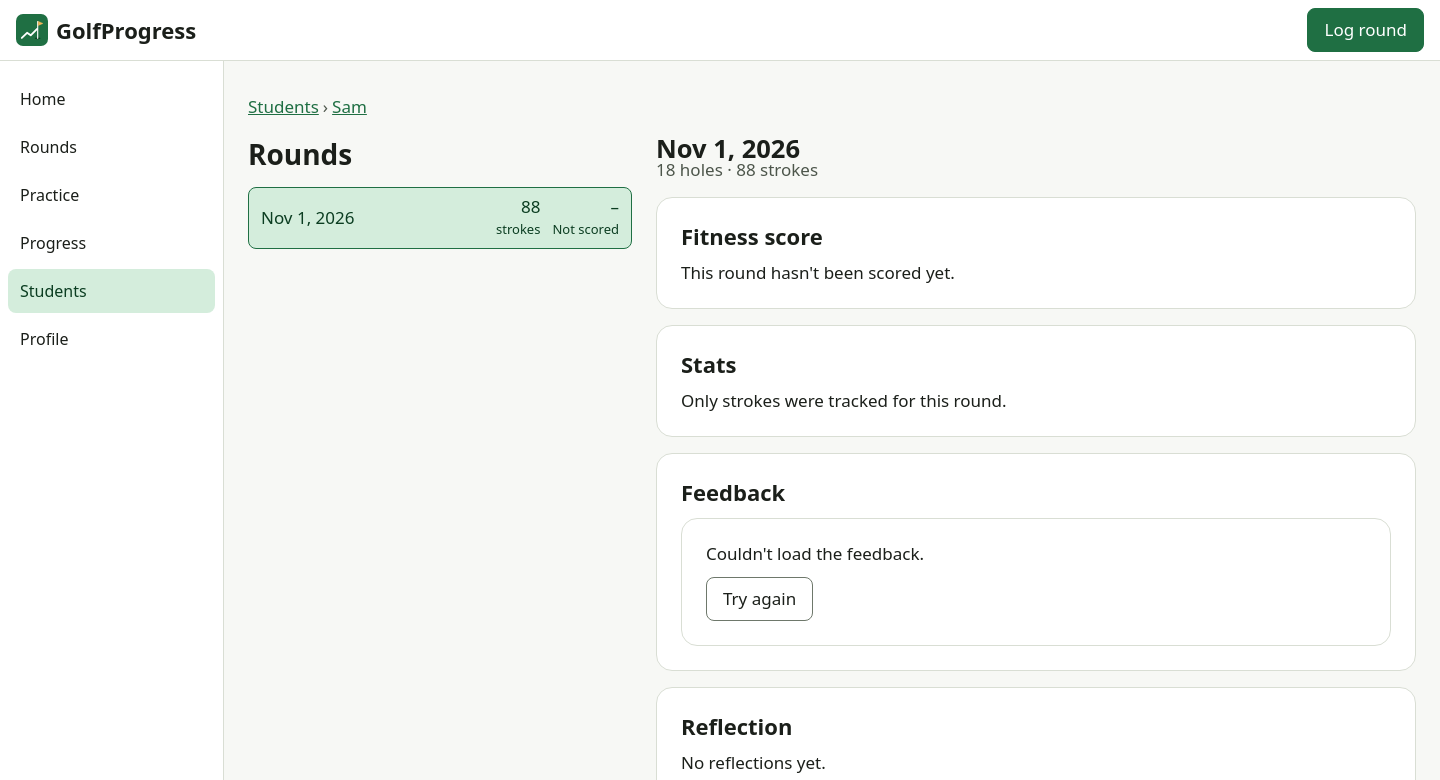
Test: a coach's feedback on a student's round (#214) › asks for text, says when there are too many messages, and offers Try again when it can't load
Click the button "Try again": (760, 599) [706, 577, 813, 621]
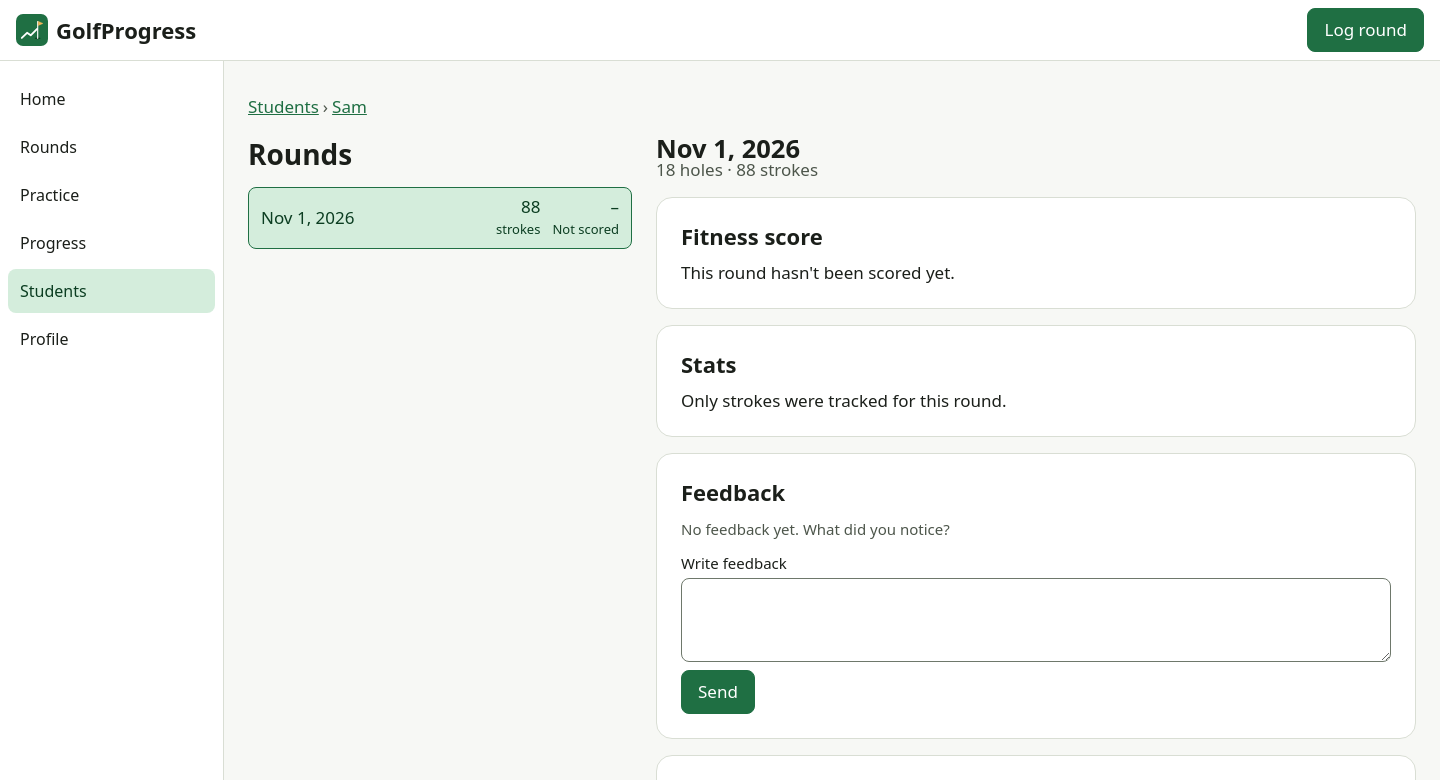
Click the button "Send": (718, 692) [681, 670, 755, 714]
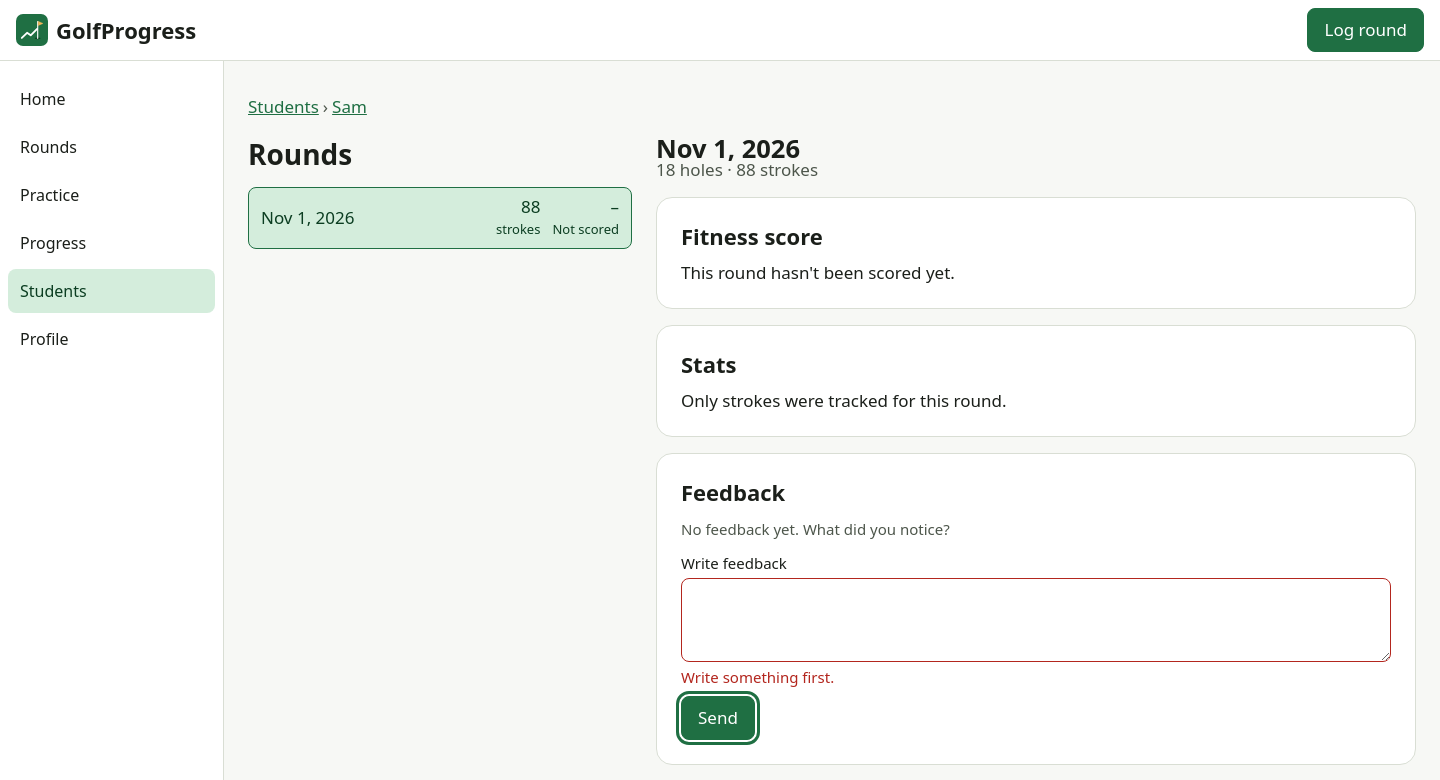
Expected: the message reads "Write something first.", [681, 667, 834, 687]
In the text box labelled "Write feedback": (1036, 620) [681, 578, 1391, 662], type "Hello"
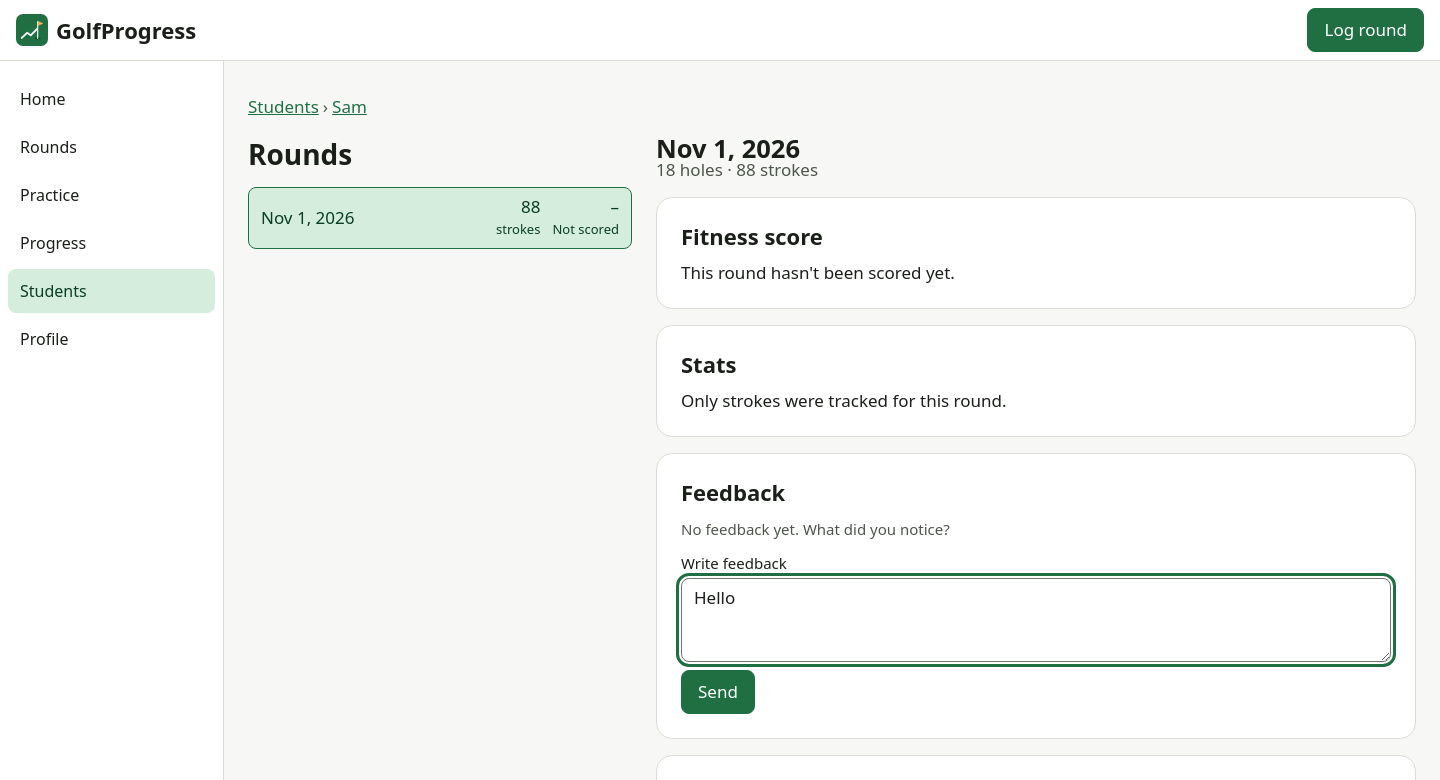
Click the button "Send": (718, 692) [681, 670, 755, 714]
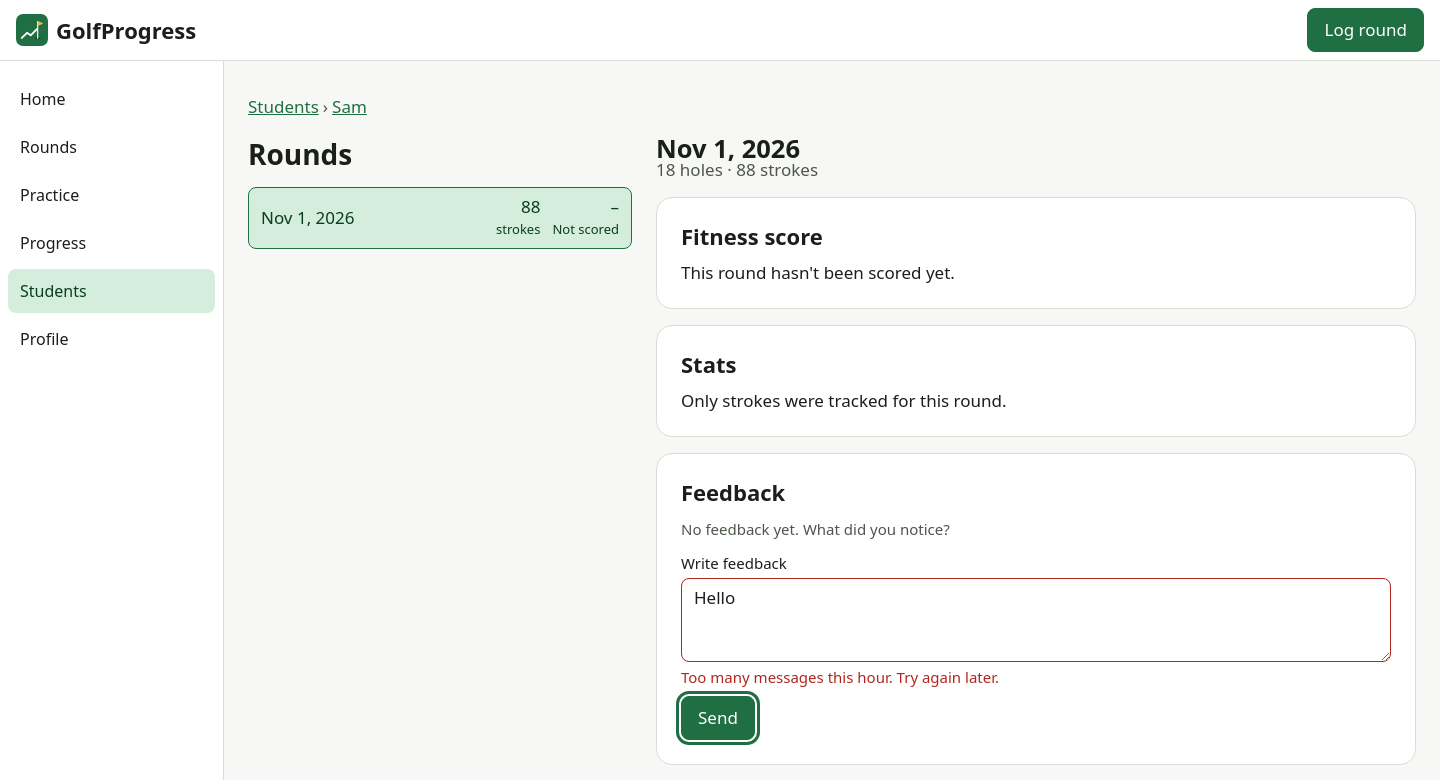
Expected: the message shows "Too many messages this hour.", [681, 667, 999, 687]
